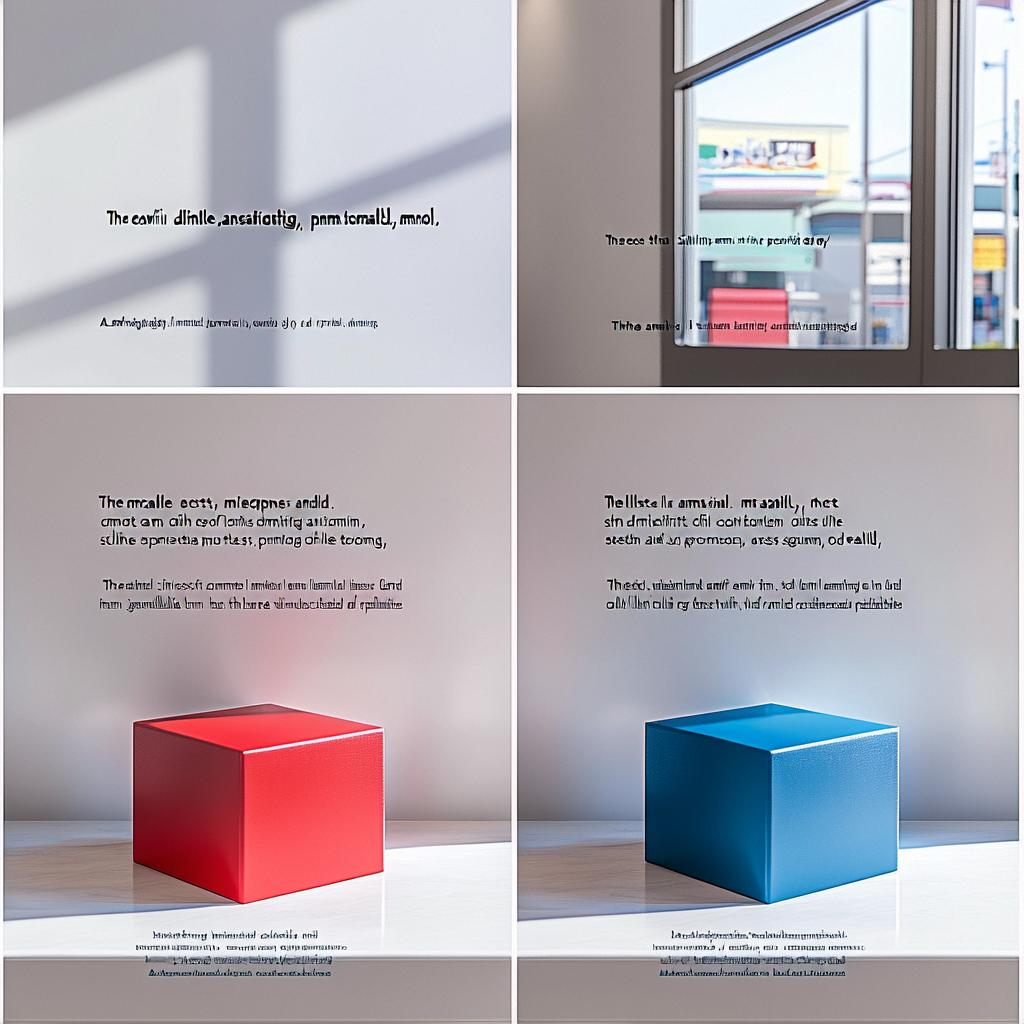cube: (642, 700, 900, 904), (130, 701, 385, 904)
